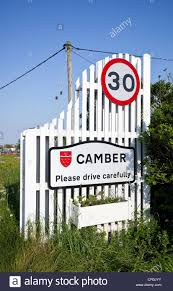Speed_limit_30km: (100, 58, 141, 107)
